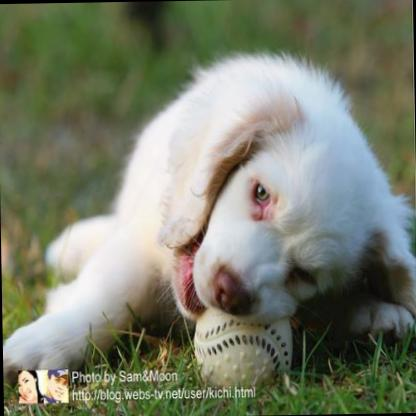clumber: (0, 41, 416, 369)
